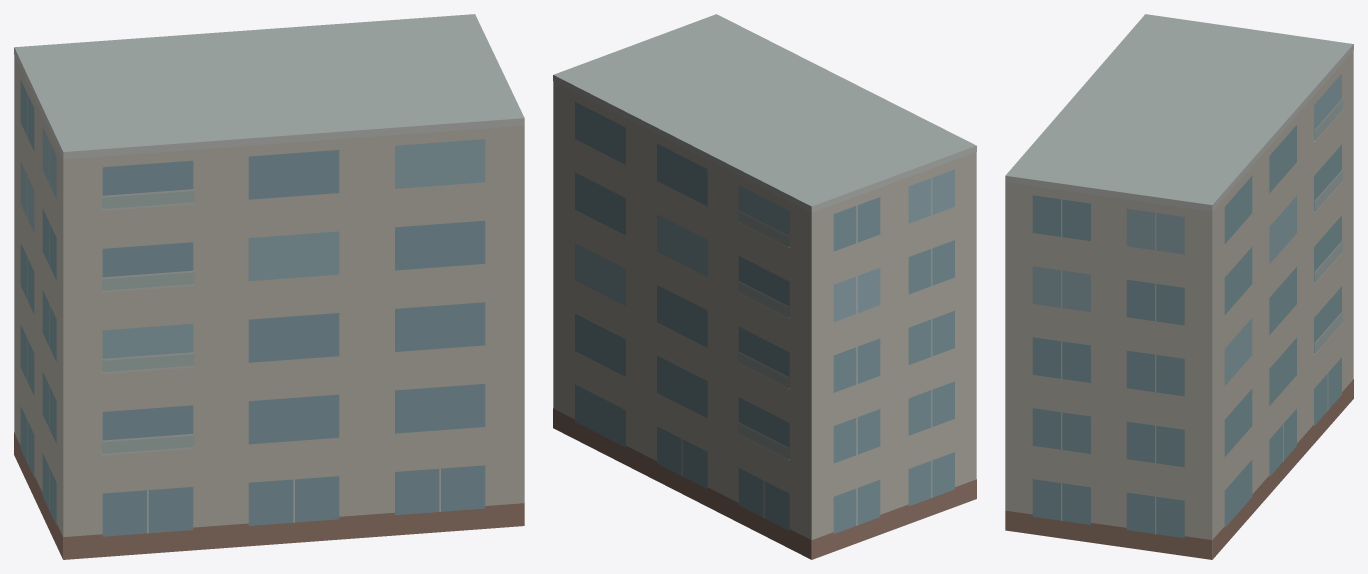
Rendered from survey-upis-32893560.glb.
3 renders of one model, left to right at view 1: azimuth 30°, elevation 25°; view 2: azimuth 150°, elevation 25°; view 3: azimuth 270°, elevation 25°, orthographic. The views are drawn at different scales.
Parts seen in each view (by area): view 1: survey-upis-32893560.tmp; view 2: survey-upis-32893560.tmp; view 3: survey-upis-32893560.tmp.
Part boxes in pixels (x1,y1,x2,y2): survey-upis-32893560.tmp: (14,14,524,559); survey-upis-32893560.tmp: (553,14,976,559); survey-upis-32893560.tmp: (1005,14,1353,559).
Size of the model in its own units: 15.61 by 13.5 by 12.03.
